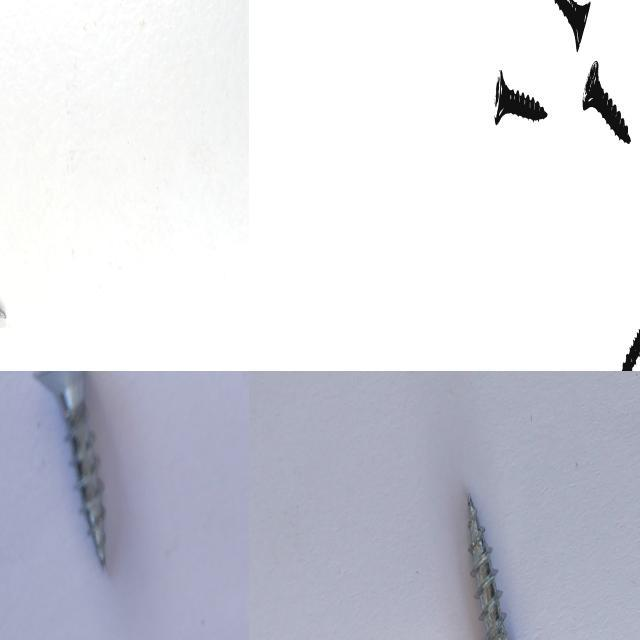Screw: (33, 371, 106, 568), (467, 492, 509, 640), (583, 59, 631, 142), (494, 69, 547, 124), (555, 0, 591, 50), (622, 328, 640, 371)
